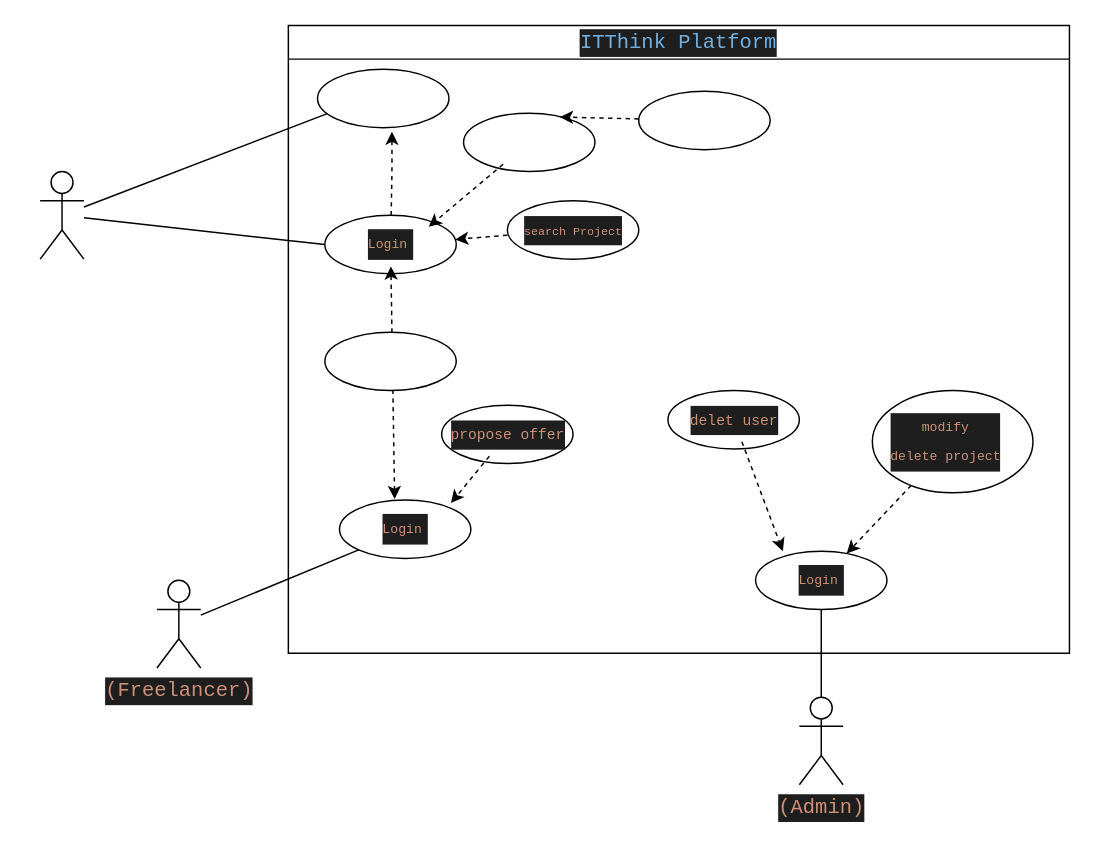
Image size: 1095x848. Some labels were removed from this diagram. Here are the shapes that lost their labels. From the top down, the box of each, then its label:
(316, 68, 449, 128): Create Account
(637, 90, 770, 150): Browse Projects
(462, 112, 595, 172): Create Project
(39, 170, 84, 259): (User)
(323, 331, 456, 391): edit role
